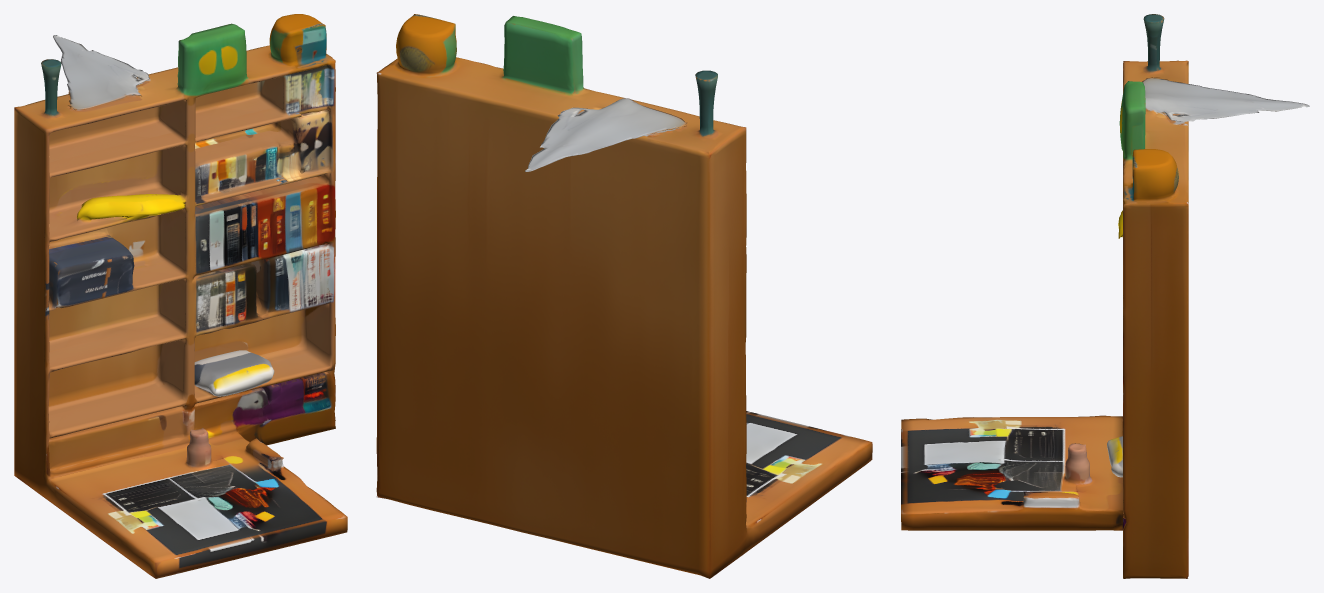
Rendered from 019daf89-5429-7858-81fb-5b2fb22dfc8b.glb.
3 renders of one model, left to right at view 1: azimuth 30°, elevation 25°; view 2: azimuth 150°, elevation 25°; view 3: azimuth 270°, elevation 25°, orthographic. The views are drawn at different scales.
Parts seen in each view (by area): view 1: model; view 2: model; view 3: model.
Part boxes in pixels (x1,y1,x2,y2): model: (14,14,347,578); model: (376,14,872,578); model: (901,14,1309,578).
Bounding box in the file's own units: 1.37 × 1.9 × 1.65.
1 material, 1 textured.
